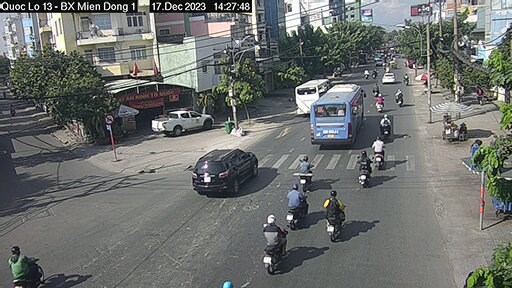bus: (317, 84, 369, 149)
car: (190, 148, 259, 197), (149, 108, 215, 137), (296, 76, 327, 119), (380, 71, 398, 85)
motorbike: (318, 190, 352, 244), (260, 217, 289, 268), (283, 185, 314, 226), (358, 149, 377, 186), (372, 137, 391, 173), (295, 153, 314, 188), (379, 115, 393, 139)
